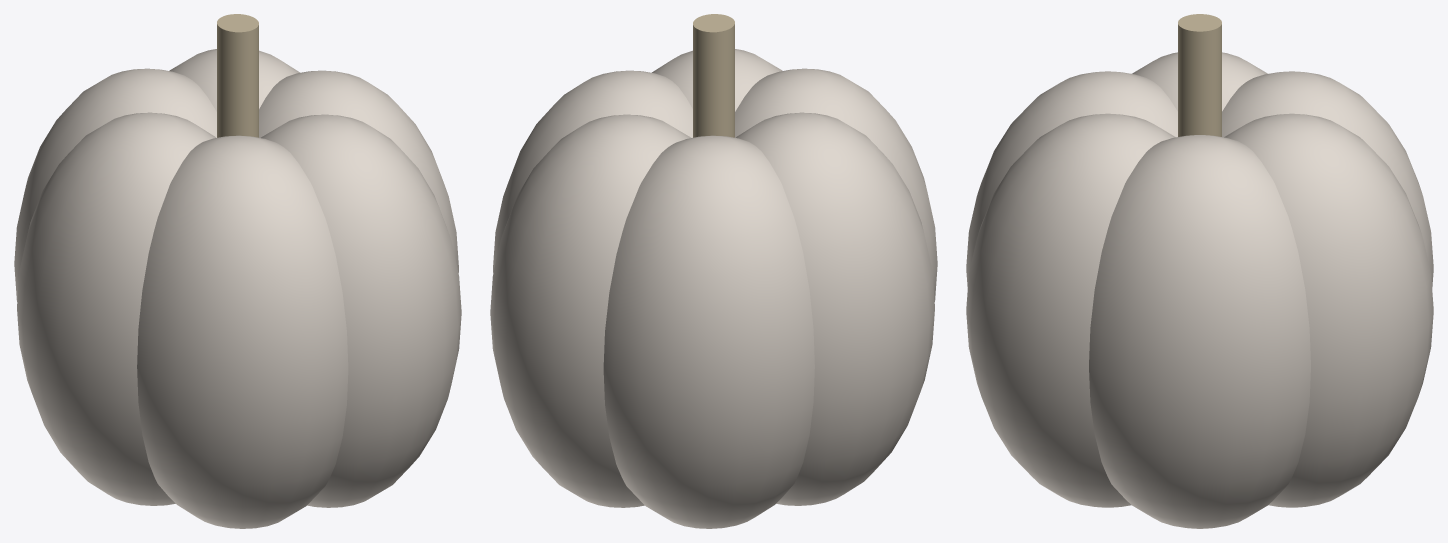
File: wp-gousse-d-ail.glb
The picture shows the model from 3 angles, left to right: view 1: azimuth 30°, elevation 25°; view 2: azimuth 150°, elevation 25°; view 3: azimuth 270°, elevation 25°; orthographic projection.
Parts seen in each view (by area): view 1: wp-gousse-d-ail; view 2: wp-gousse-d-ail; view 3: wp-gousse-d-ail.
Part boxes in pixels (x1,y1,x2,y2): wp-gousse-d-ail: [14, 14, 461, 528]; wp-gousse-d-ail: [490, 14, 937, 528]; wp-gousse-d-ail: [966, 14, 1433, 528].
Size of the model in its own units: 0.065 by 0.07 by 0.065.
